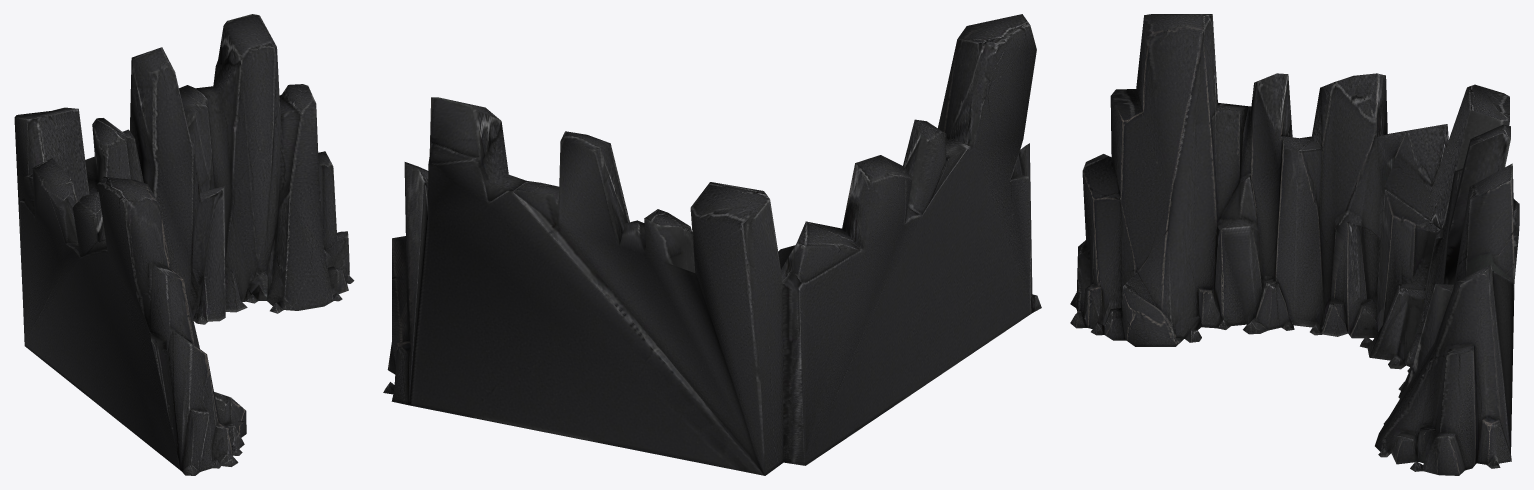
File: tripo_convert_3386c394-67c5-45ac-b517-8d04c0ca9365.fbx
3 renders of one model, left to right at view 1: azimuth 30°, elevation 25°; view 2: azimuth 150°, elevation 25°; view 3: azimuth 270°, elevation 25°, orthographic. The views are drawn at different scales.
Parts seen in each view (by area): view 1: tripo_node_3386c394; view 2: tripo_node_3386c394; view 3: tripo_node_3386c394.
Boxes of the visible parts, box(x1,y1,x2,y2) form: tripo_node_3386c394: box(14, 14, 354, 475); tripo_node_3386c394: box(383, 14, 1041, 475); tripo_node_3386c394: box(1070, 14, 1519, 475).
Size of the model in its own units: 0.998 by 0.6777 by 0.998.
Materials: 1 (1 with a texture image).
